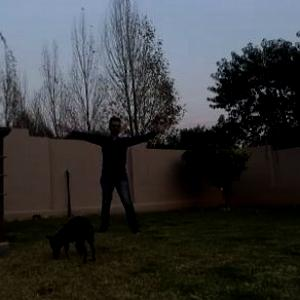takeoff: (49, 112, 163, 241)
